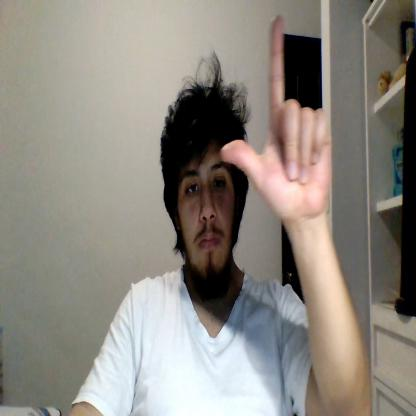L: (220, 16, 330, 217)
